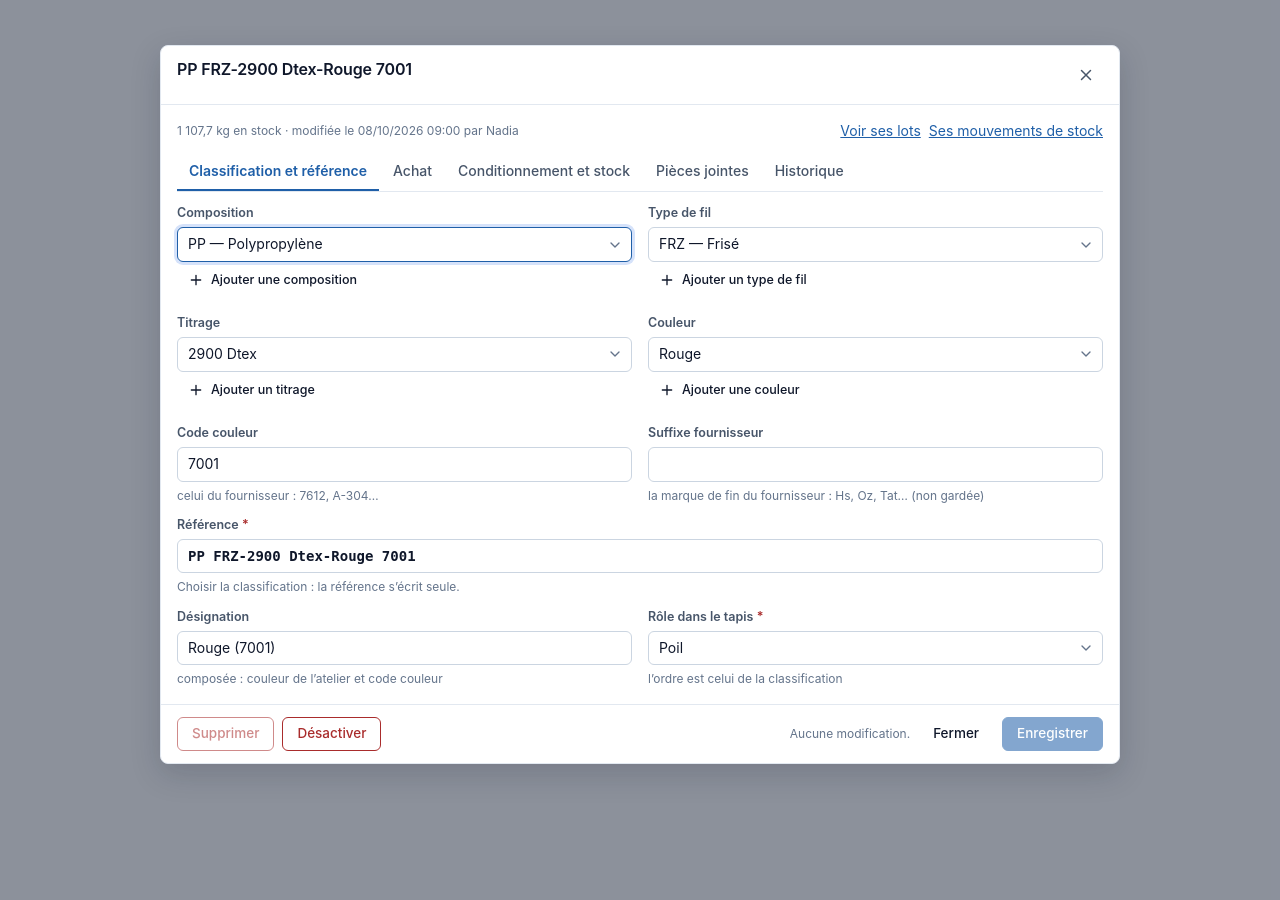
Test: Fiche matière › 409 : la saisie reste, le message du serveur et « Recharger la fiche » ; recharger repart de la dernière version
Replace the text in the field labelled "Désignation" with "Rouge sombre" at (404, 648), box [177,631,632,665]
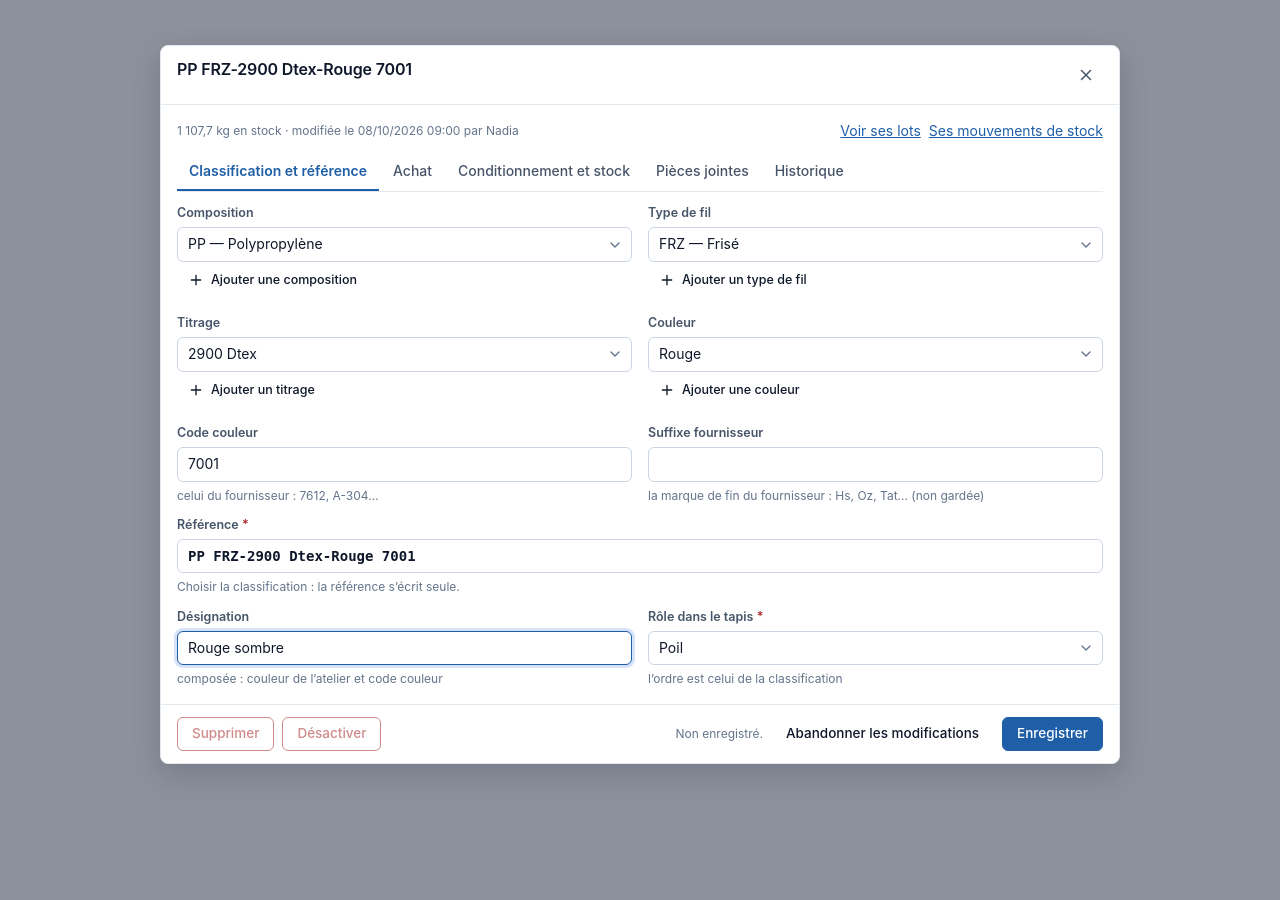
Click the button "Enregistrer".
click(1053, 734)  # box [1002,717,1103,751]
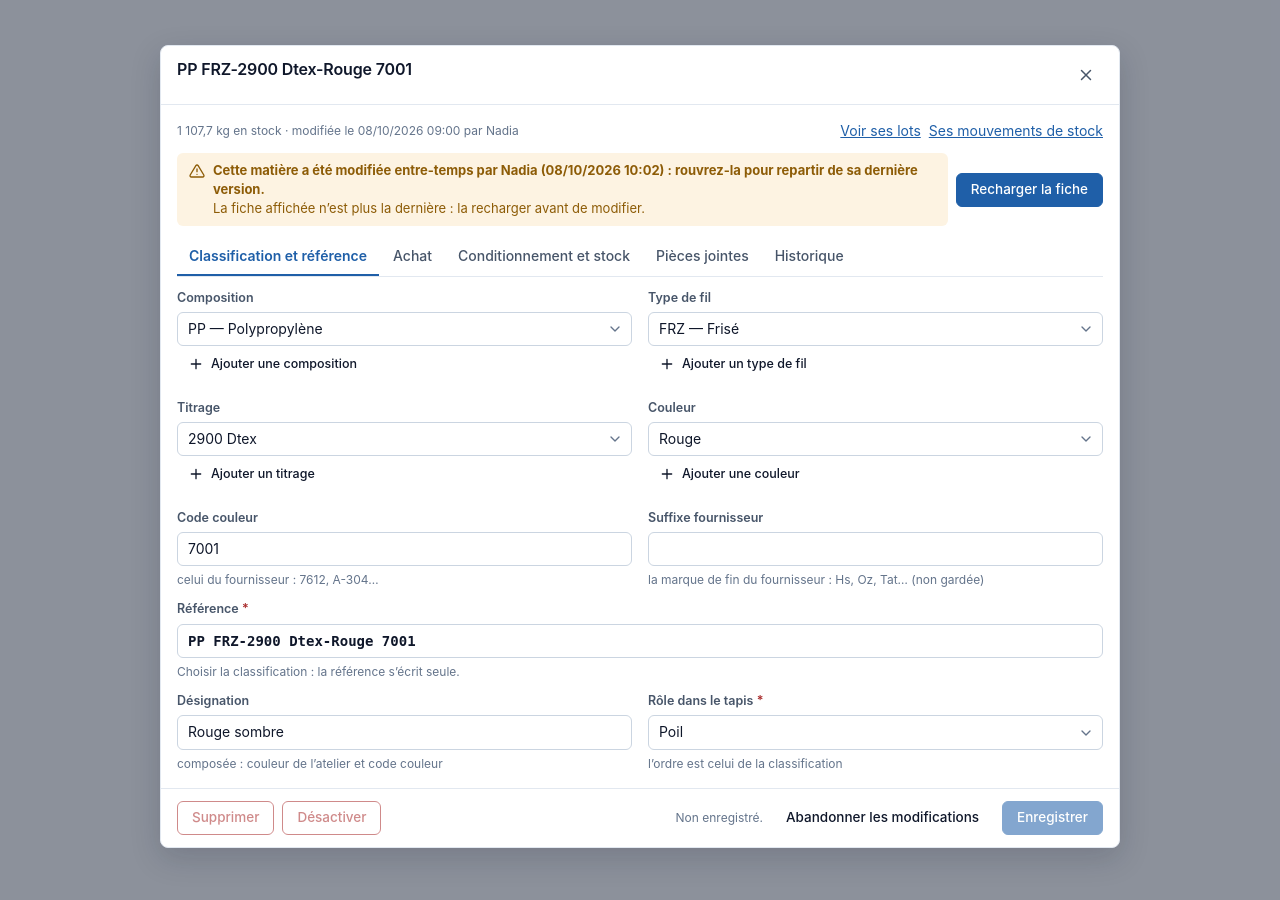
Now the text "modifiée entre-temps par Nadia" is shown, box [213,162,918,197]
Click the button "Recharger la fiche".
click(1029, 190)  # box [956,173,1103,207]
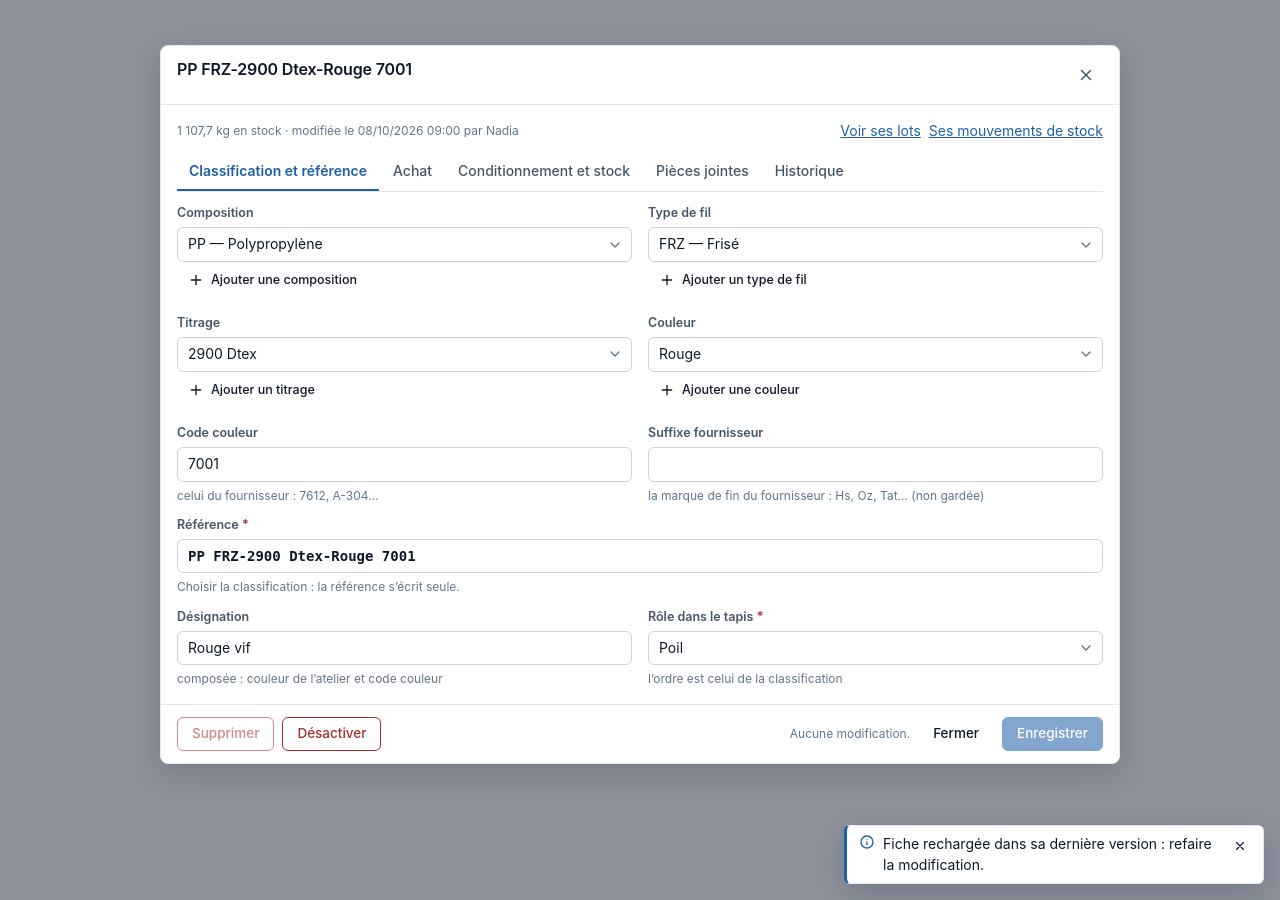
Now the field labelled "Désignation" holds "Rouge vif", box [177,631,632,665]
Now the text "Fiche rechargée dans sa dernière version : refaire la modification." is shown, box [883,834,1219,875]
Now the text "modifiée entre-temps" is gone
